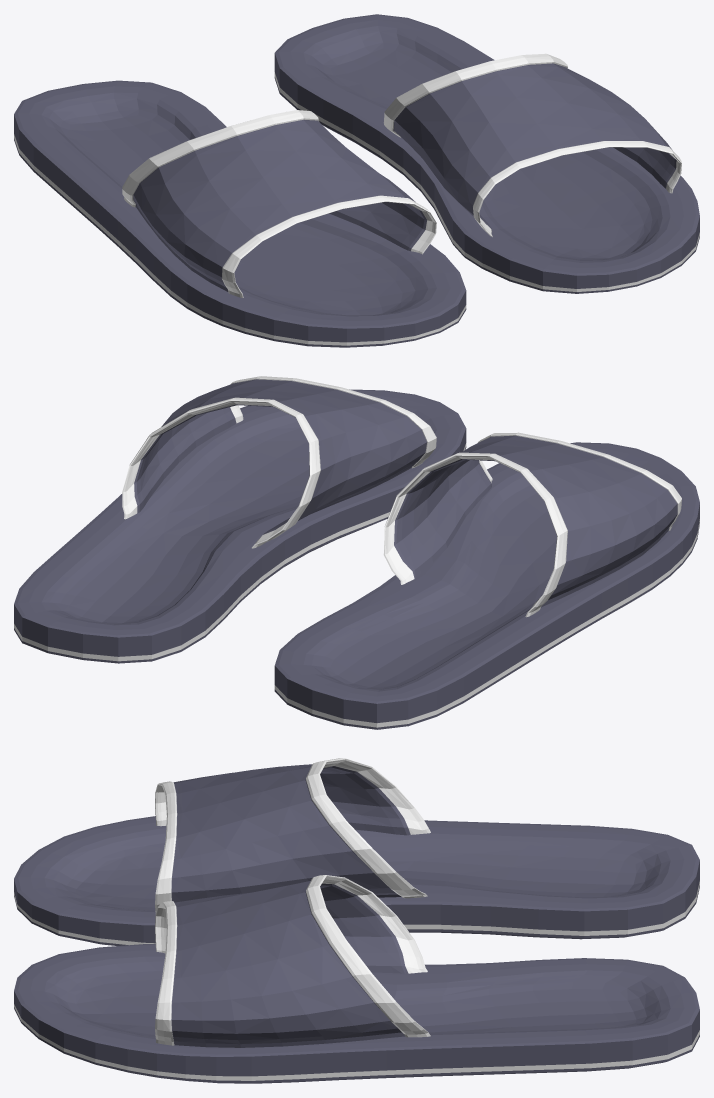
The model's file is sweethome3d-blendswap-cc-0-slippers.glb.
3 renders of one model, top to bottom at view 1: azimuth 30°, elevation 25°; view 2: azimuth 150°, elevation 25°; view 3: azimuth 270°, elevation 25°, orthographic. The views are drawn at different scales.
Visible parts, largest first — view 1: slipper_R_Plane.006, slipper_L_Plane; view 2: slipper_R_Plane.006, slipper_L_Plane; view 3: slipper_L_Plane, slipper_R_Plane.006.
Boxes of the visible parts, x1,y1,x2,y2 form: slipper_R_Plane.006: [14, 80, 466, 347]; slipper_L_Plane: [274, 14, 699, 293]; slipper_R_Plane.006: [274, 432, 699, 729]; slipper_L_Plane: [14, 376, 466, 663]; slipper_L_Plane: [14, 875, 699, 1083]; slipper_R_Plane.006: [14, 758, 699, 945].
Size of the model in its own units: 23.72 by 6.09 by 28.11.
